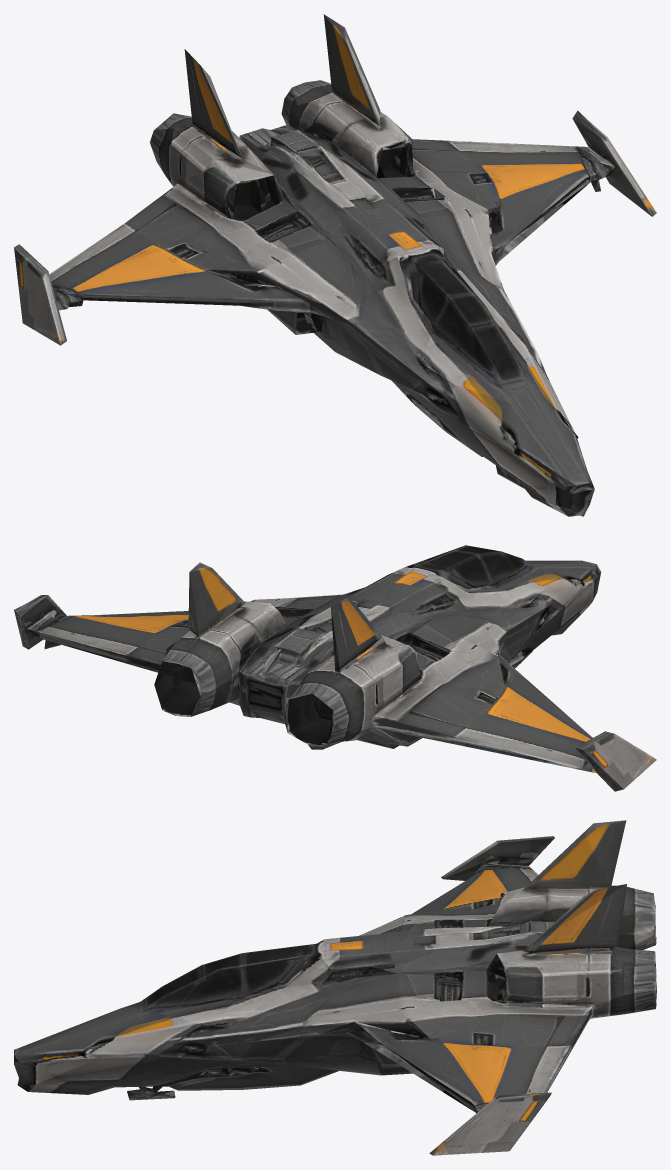
File: hard-1000.glb
3 renders of one model, top to bottom at view 1: azimuth 30°, elevation 25°; view 2: azimuth 150°, elevation 25°; view 3: azimuth 270°, elevation 25°, orthographic. The views are drawn at different scales.
Visible parts, largest first — view 1: Low; view 2: Low; view 3: Low.
Boxes of the visible parts, x1,y1,x2,y2 form: Low: [14, 14, 656, 516]; Low: [14, 545, 656, 791]; Low: [14, 820, 656, 1155].
Bounding box in the file's own units: 0.9764 × 0.4139 × 0.9781.
Materials: 1 (1 with a texture image).
